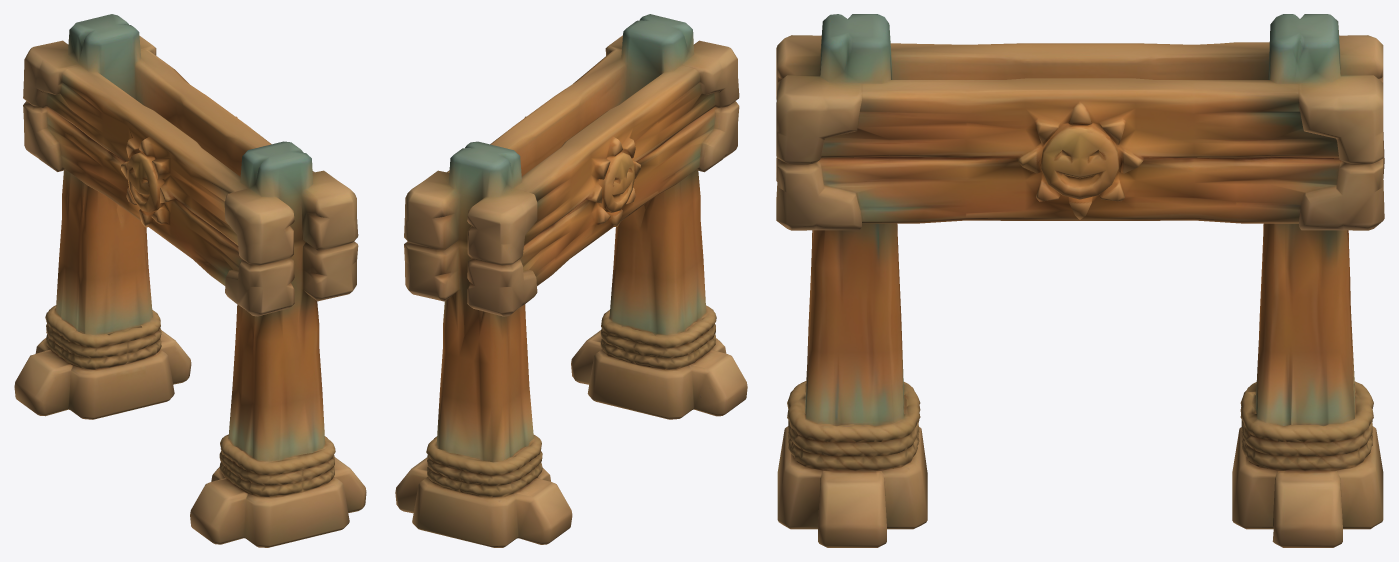
File: tripo_raw.glb
The picture shows the model from 3 angles, left to right: view 1: azimuth 30°, elevation 25°; view 2: azimuth 150°, elevation 25°; view 3: azimuth 270°, elevation 25°; orthographic projection. The views are drawn at different scales.
Visible parts, largest first — view 1: tripo_node_97c4d0e7-8e1d-443d-a667-25825b8ceb9b; view 2: tripo_node_97c4d0e7-8e1d-443d-a667-25825b8ceb9b; view 3: tripo_node_97c4d0e7-8e1d-443d-a667-25825b8ceb9b.
Part boxes in pixels (x1,y1,x2,y2): tripo_node_97c4d0e7-8e1d-443d-a667-25825b8ceb9b: [14, 14, 366, 547]; tripo_node_97c4d0e7-8e1d-443d-a667-25825b8ceb9b: [395, 14, 747, 547]; tripo_node_97c4d0e7-8e1d-443d-a667-25825b8ceb9b: [776, 14, 1384, 547].
Bounding box in the file's own units: 0.3855 × 0.863 × 1.
1 material, 1 textured.
